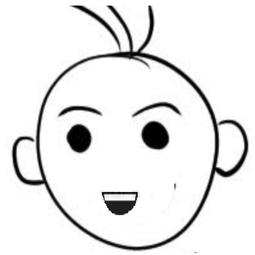ear: (206, 115, 255, 182), (6, 125, 48, 189)
eye: (139, 116, 188, 164), (63, 120, 100, 166)
eyebrow: (130, 93, 184, 122), (55, 100, 108, 120)
open_mouth: (98, 183, 141, 218)
